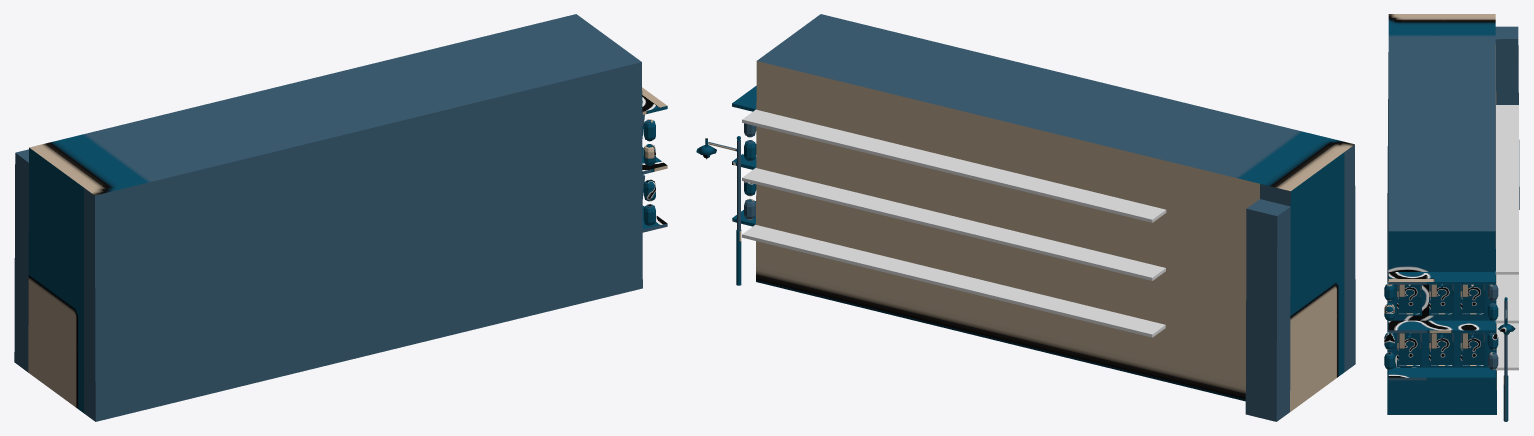
Rendered from Building.FBX.
3 renders of one model, left to right at view 1: azimuth 30°, elevation 25°; view 2: azimuth 150°, elevation 25°; view 3: azimuth 270°, elevation 25°, orthographic. The views are drawn at different scales.
Parts seen in each view (by area): view 1: Box058, lantern014, awning003; view 2: Box058, awning009, awning010, awning011, streetlamp, lantern014, awning003; view 3: Box058, awning003, awning009, lantern014, awning010, awning011, paper008, paper004, paper007, streetlamp, paper003, paper002 (+7 smaller).
Boxes of the visible parts, <box> form: Box058: <box>14,14,642,421</box>; lantern014: <box>643,119,655,225</box>; awning003: <box>642,87,667,232</box>; Box058: <box>756,14,1355,421</box>; awning009: <box>742,109,1166,222</box>; awning010: <box>742,168,1165,280</box>; awning011: <box>742,224,1165,337</box>; streetlamp: <box>696,136,741,285</box>; lantern014: <box>744,123,756,219</box>; awning003: <box>732,85,756,226</box>; Box058: <box>1387,14,1519,414</box>; awning003: <box>1388,272,1495,380</box>; awning009: <box>1495,105,1518,274</box>; lantern014: <box>1384,283,1498,369</box>; awning010: <box>1495,274,1518,323</box>; awning011: <box>1495,323,1518,370</box>; paper008: <box>1462,333,1483,364</box>; paper004: <box>1398,333,1419,364</box>; paper007: <box>1431,333,1452,364</box>; streetlamp: <box>1498,297,1515,421</box>; paper003: <box>1462,284,1483,313</box>; paper002: <box>1431,284,1452,313</box>.
Bounding box in the file's own units: 2315 × 837 × 554.
